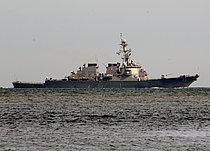MIL_Ship: (11, 31, 200, 90)
